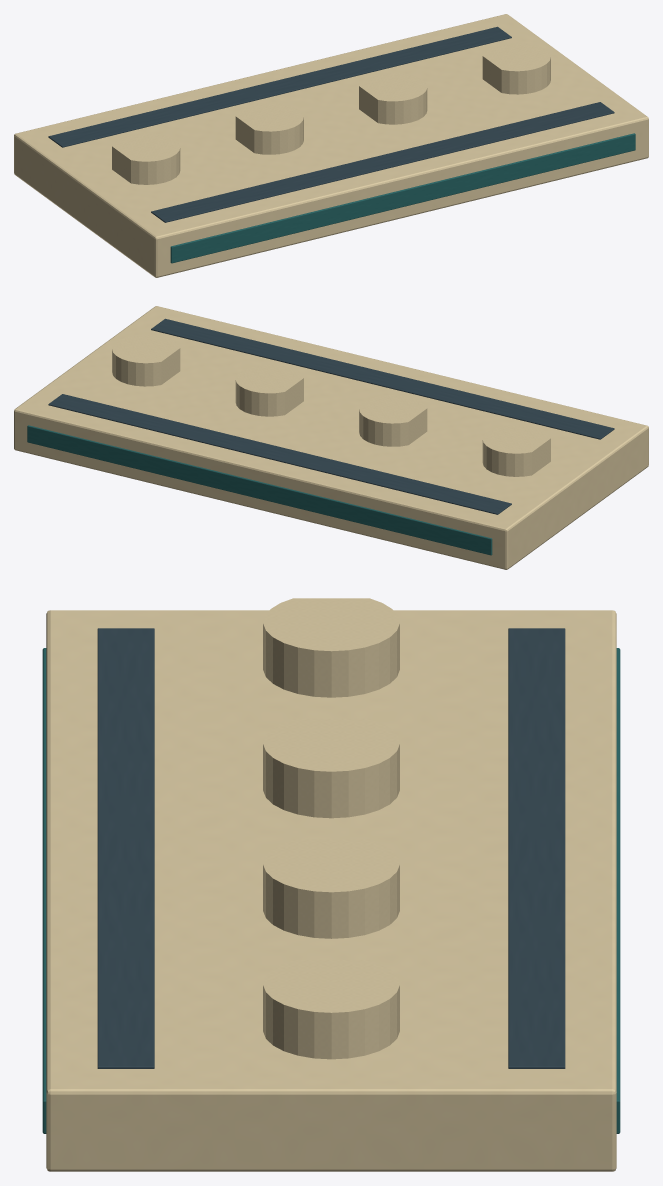
File: plate-lod-0.glb
The picture shows the model from 3 angles, top to bottom: view 1: azimuth 30°, elevation 25°; view 2: azimuth 150°, elevation 25°; view 3: azimuth 270°, elevation 25°; orthographic projection. The views are drawn at different scales.
Parts seen in each view (by area): view 1: plate_lod_0; view 2: plate_lod_0; view 3: plate_lod_0.
Part boxes in pixels (<box>): plate_lod_0: <box>14,14,648,277</box>; plate_lod_0: <box>14,306,648,569</box>; plate_lod_0: <box>42,598,620,1171</box>.
Size of the model in its own units: 4 by 0.5 by 2.02.
Materials: 1 (1 with a texture image).
